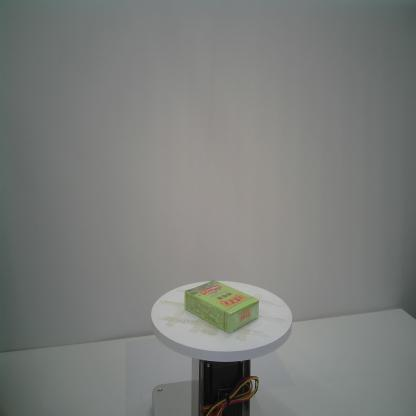Candy: (185, 279, 259, 334)
